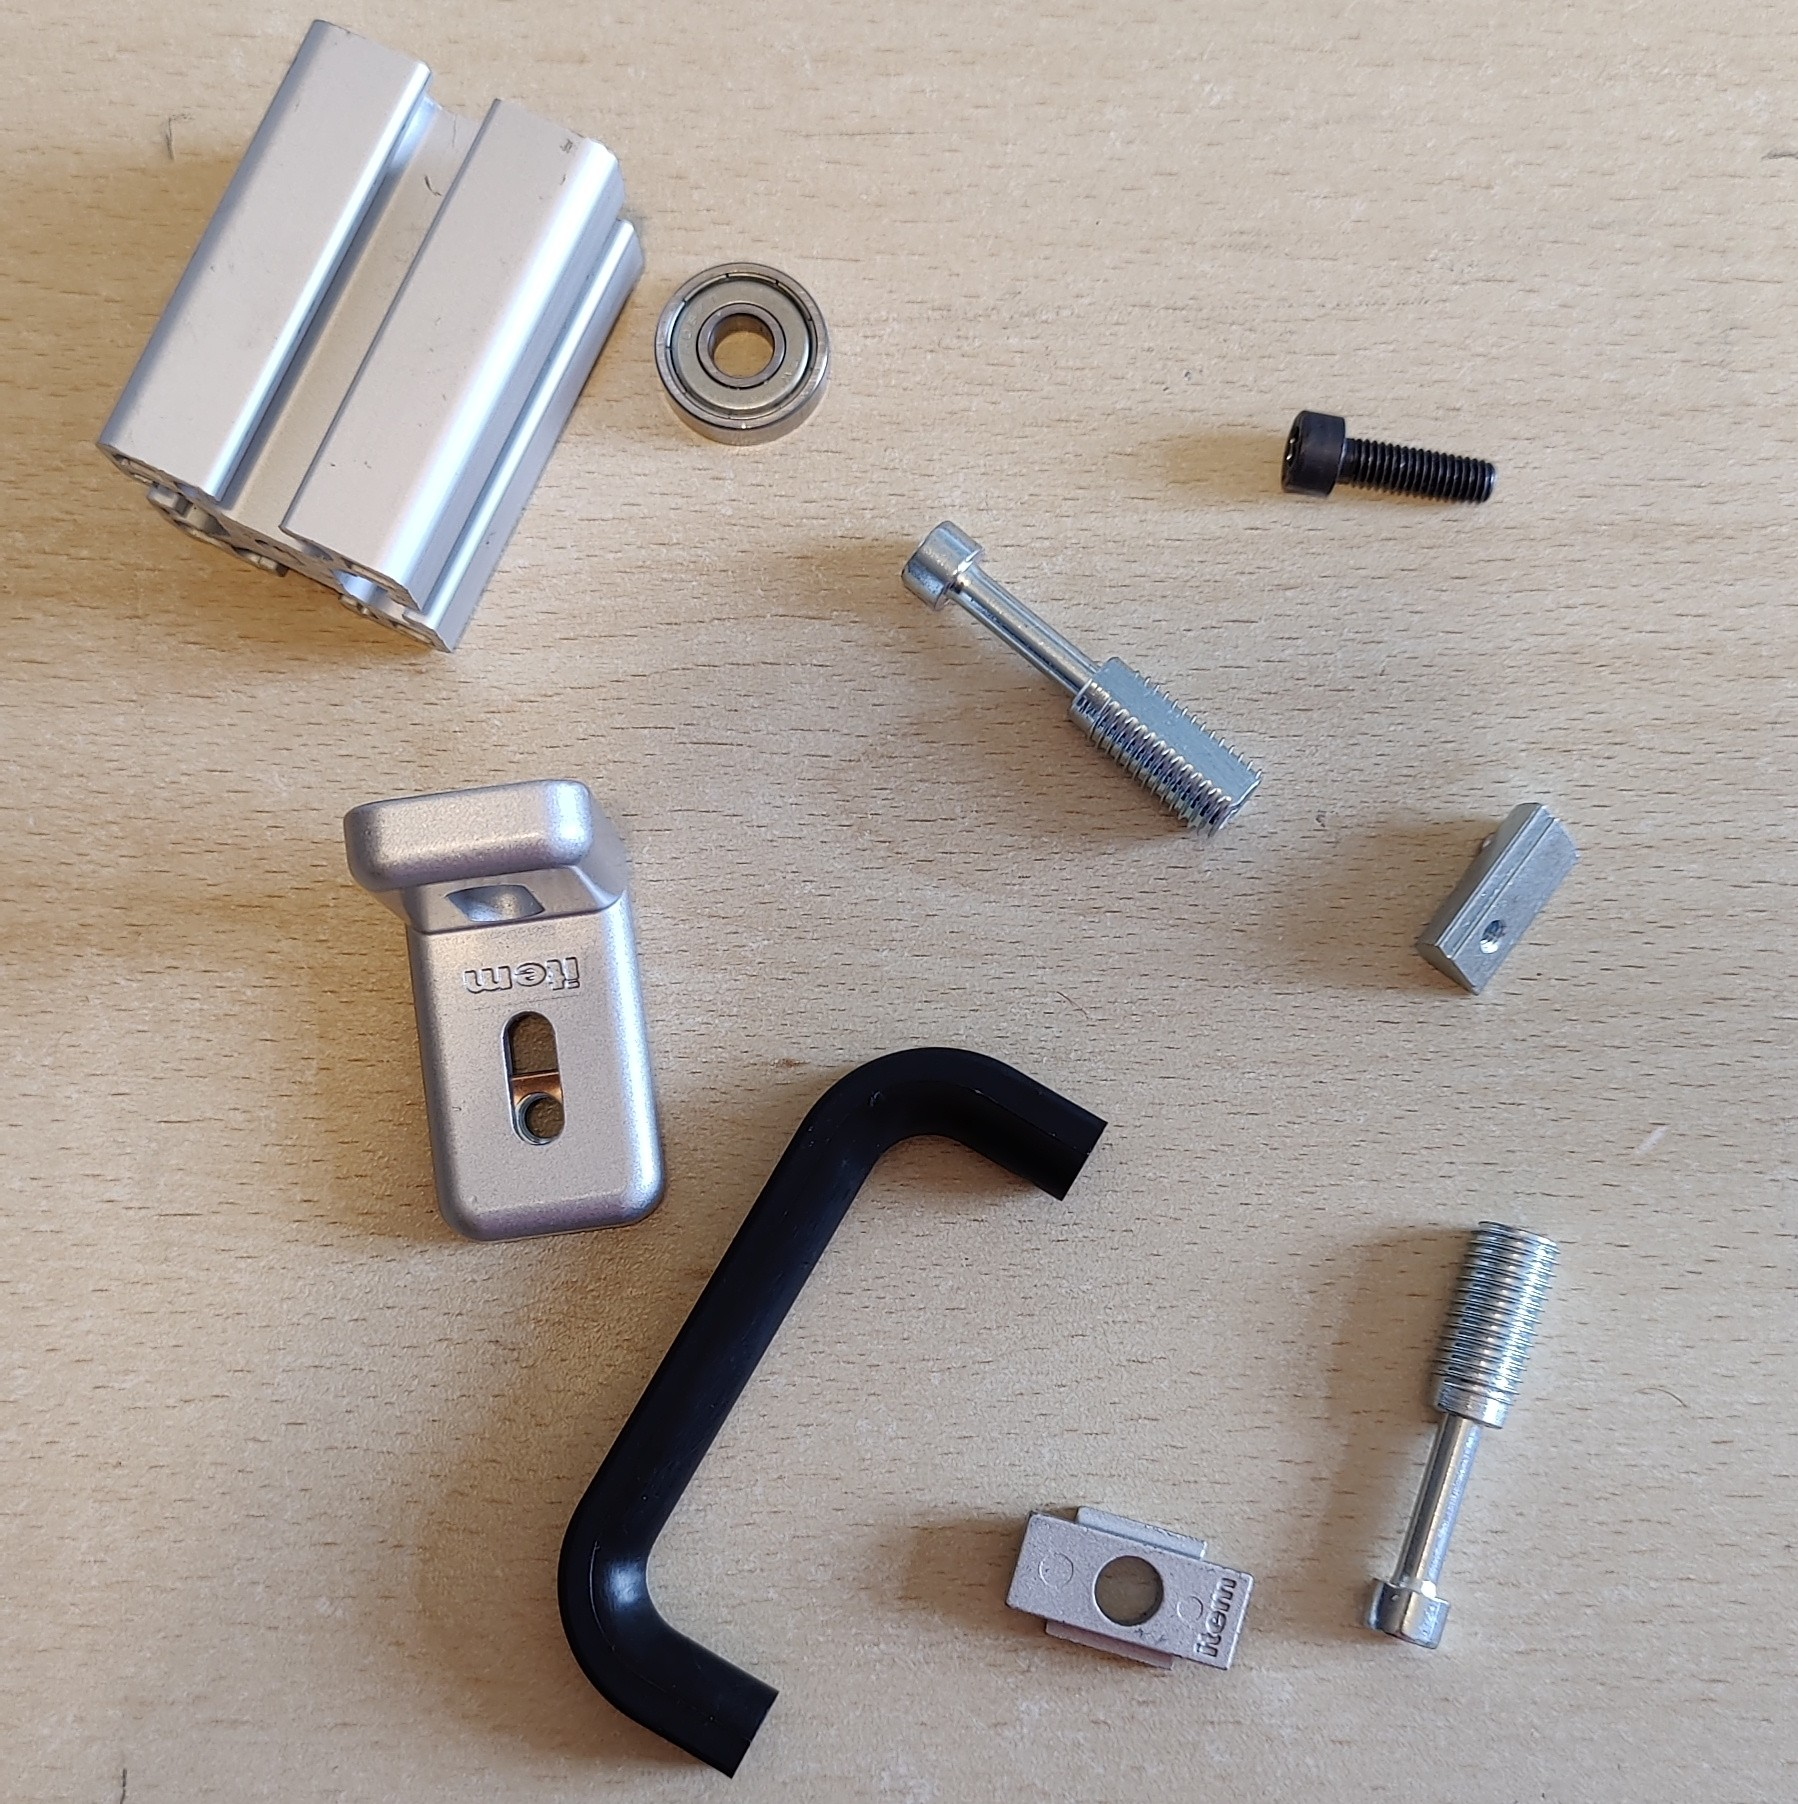Aluminium Extension: (92, 15, 647, 657)
Ball Bearing: (652, 258, 831, 449)
Multiwinkel: (339, 779, 668, 1244)
Pull Handle: (557, 1045, 1115, 1784)
Shoulder Socket Head Cap Screw: (897, 518, 1266, 843), (1358, 1215, 1563, 1651)
Socket Head Cap Screw: (1278, 407, 1498, 507)
T Nut Square: (1003, 1501, 1256, 1677)
T Spring Nut: (1413, 800, 1581, 1001)
